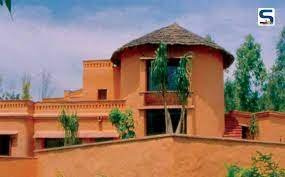Mud House: (1, 24, 239, 155)
